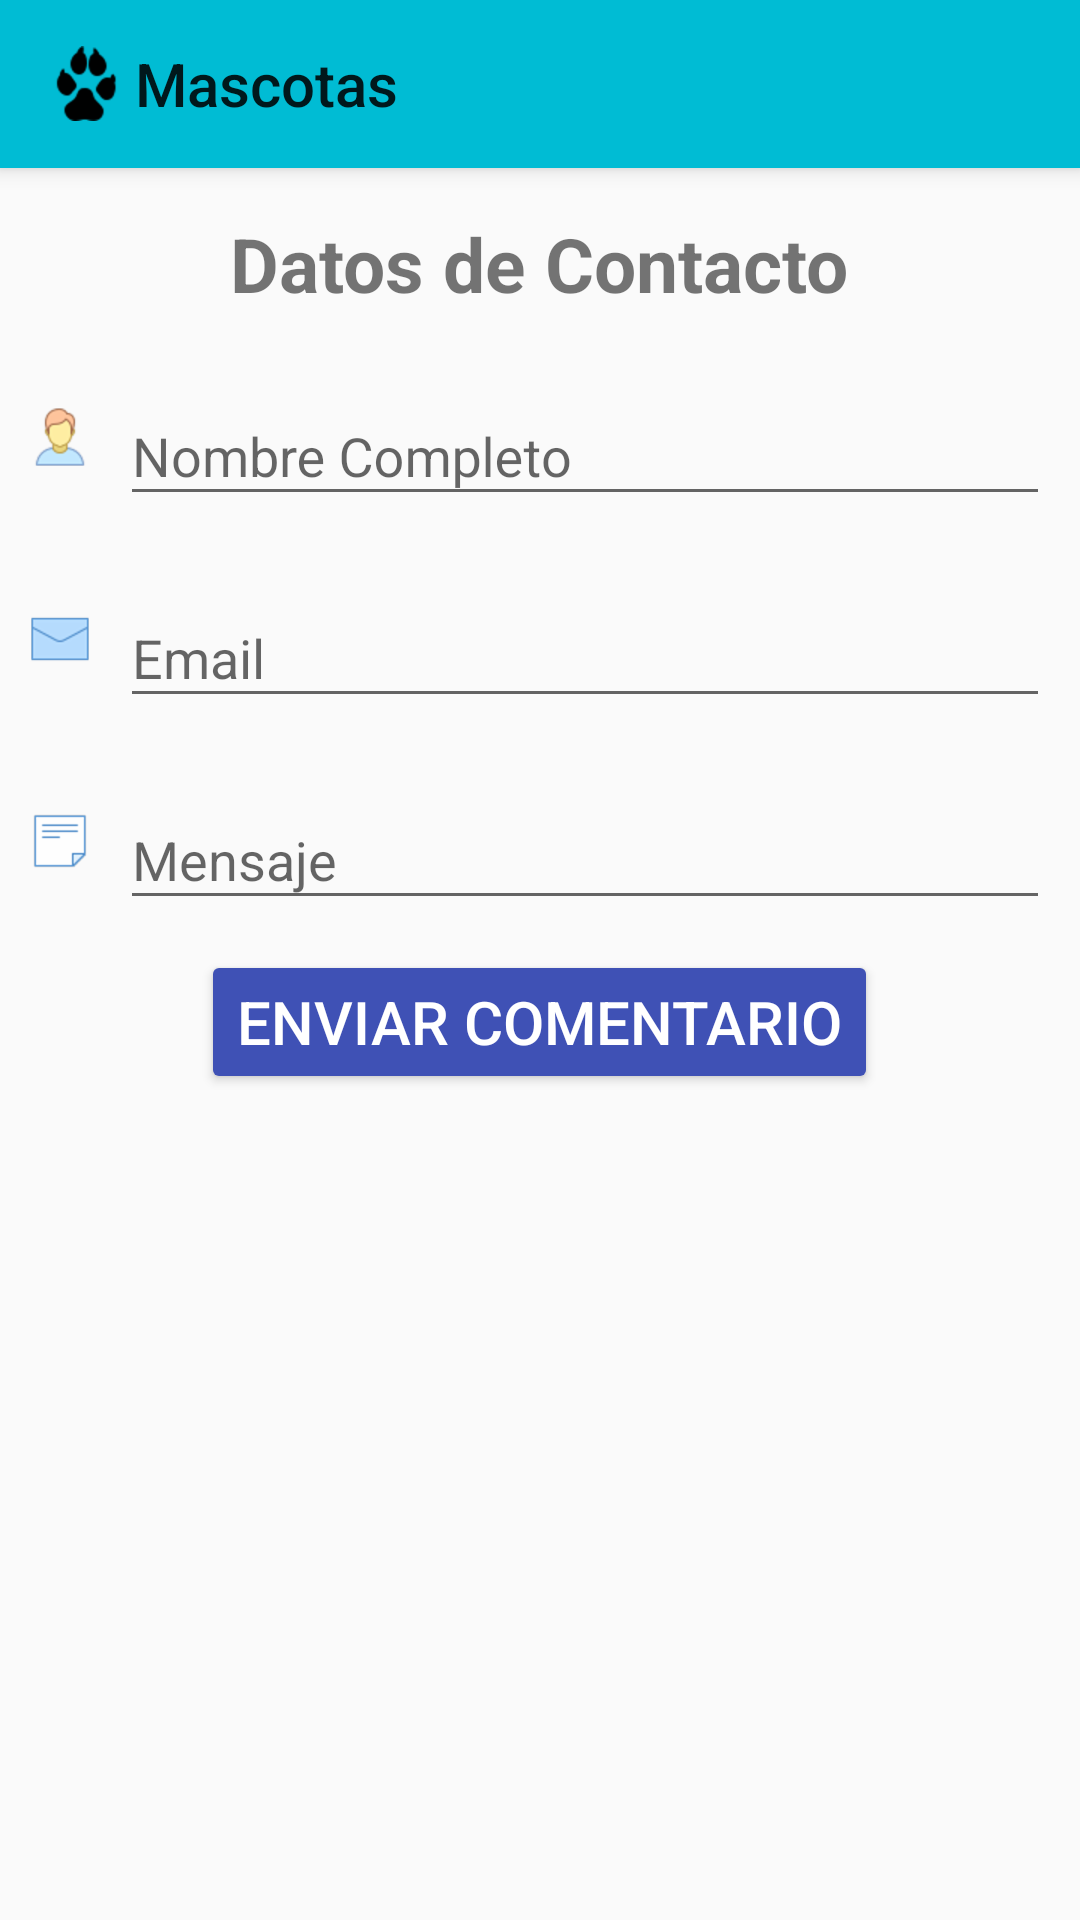

Icon bounding boxes for this 1080x1920 phone screenshot, format rect(x1, y1, x2, y2):
Imagen de Contacto: rect(36, 408, 85, 466)
